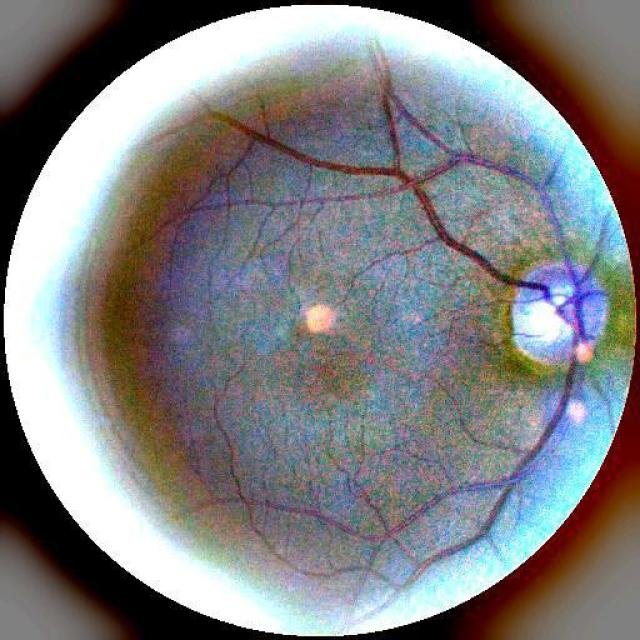Nerves: (216, 69, 608, 558)
Optic Disk: (511, 265, 608, 362)
